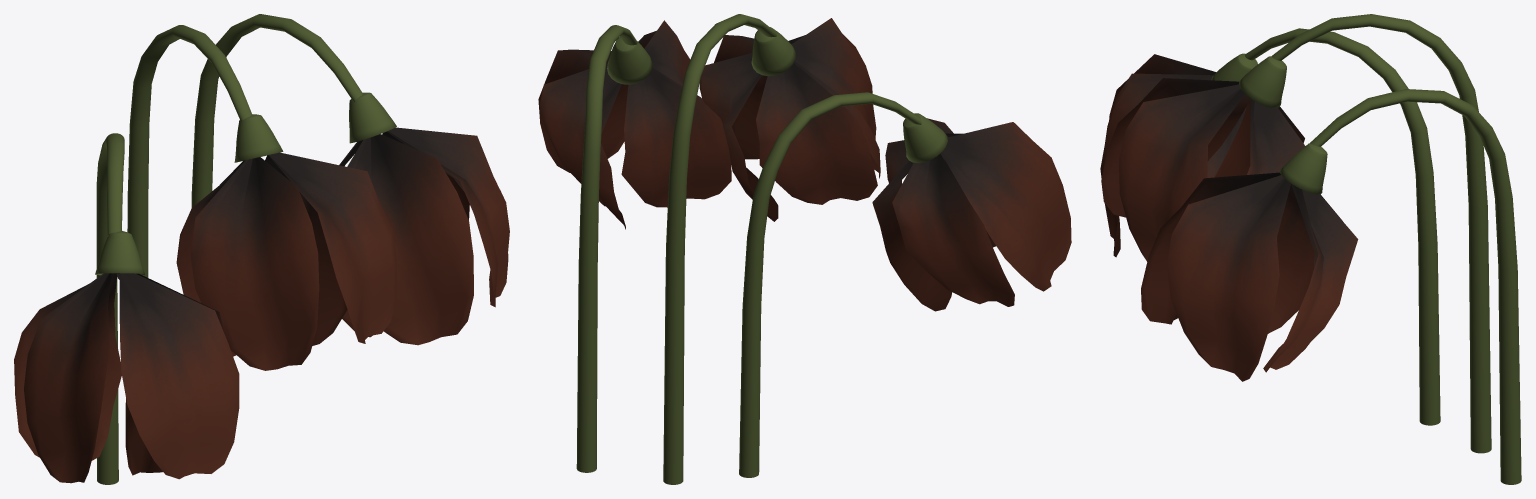
Rendered from Flowers3_Corrupted.fbx.
3 views of the same model, side by side, from view 1: azimuth 30°, elevation 25°; view 2: azimuth 150°, elevation 25°; view 3: azimuth 270°, elevation 25° (orthographic). The views are drawn at different scales.
Parts seen in each view (by area): view 1: FLower3_Corrupted; view 2: FLower3_Corrupted; view 3: FLower3_Corrupted.
Part boxes in pixels (box(x1,y1,x2,y2)): FLower3_Corrupted: box(14, 14, 509, 484); FLower3_Corrupted: box(538, 14, 1071, 484); FLower3_Corrupted: box(1100, 14, 1521, 484).
Bounding box in the file's own units: 6.34 × 5.48 × 4.8.
Materials: 2 (1 with a texture image).
